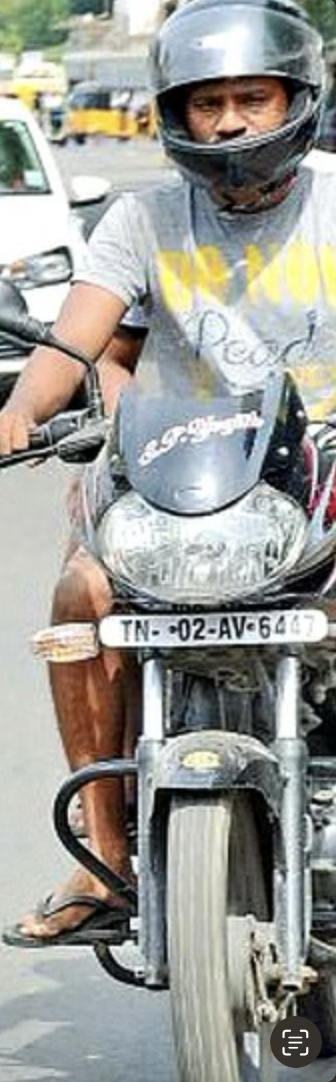motor: (5, 294, 333, 1077)
number: (96, 611, 331, 645)
with helmet: (149, 3, 325, 207)
